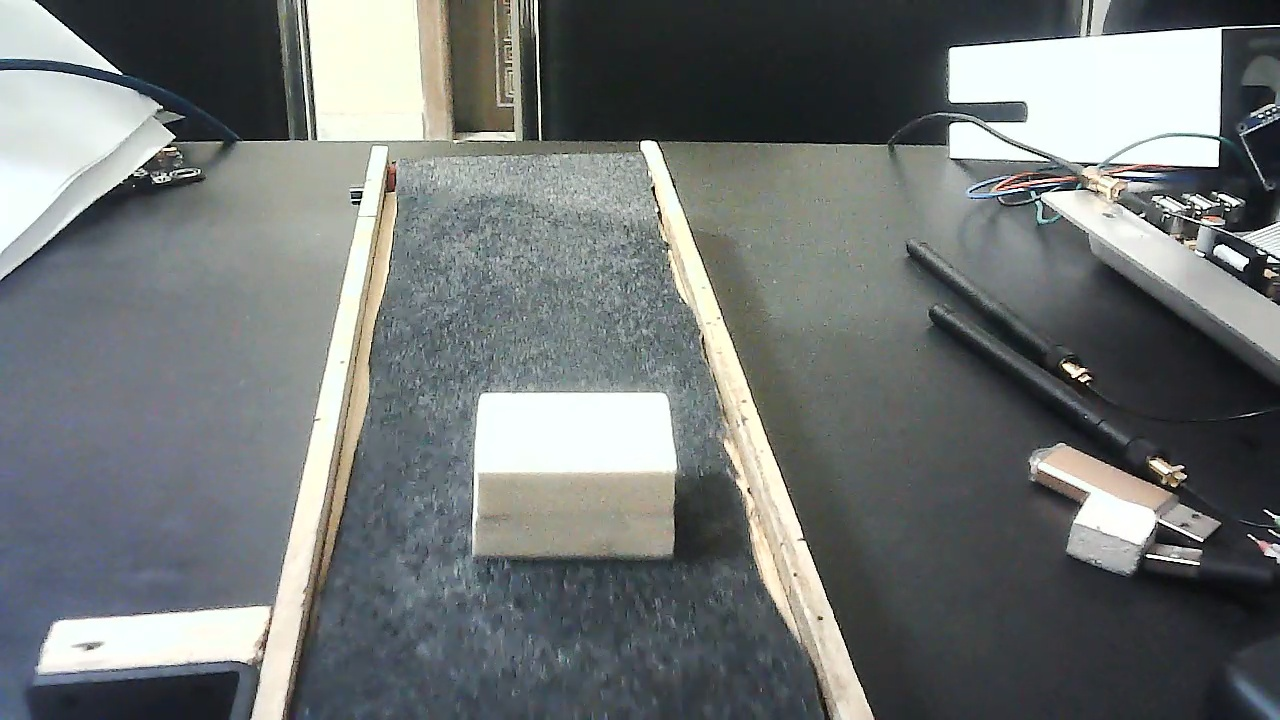BIG: (473, 375, 677, 579)
